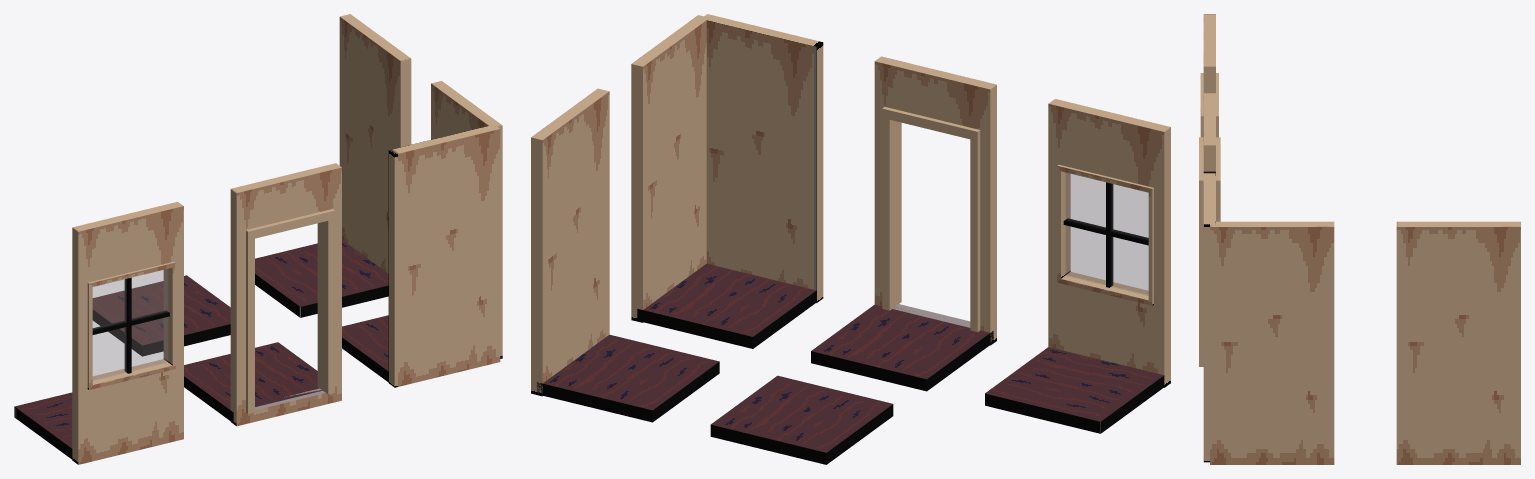
The model's file is MotelTileset.glb.
3 renders of one model, left to right at view 1: azimuth 30°, elevation 25°; view 2: azimuth 150°, elevation 25°; view 3: azimuth 270°, elevation 25°, orthographic. The views are drawn at different scales.
Parts seen in each view (by area): view 1: Cube.008, Cube.014, Cube.006, Cube.002, Cube.003; view 2: Cube.008, Cube.014, Cube.002, Cube.006, Cube.003; view 3: Cube.008, Cube.002, Cube.006, Cube.014.
Part boxes in pixels (x1,y1,x2,y2): Cube.008: (342, 81, 502, 387); Cube.014: (14, 201, 183, 464); Cube.006: (184, 163, 341, 426); Cube.002: (255, 14, 411, 317); Cube.003: (92, 275, 230, 356); Cube.008: (631, 14, 823, 348); Cube.014: (985, 99, 1170, 433); Cube.002: (531, 88, 719, 422); Cube.006: (811, 56, 996, 391); Cube.003: (710, 375, 893, 464); Cube.008: (1203, 171, 1334, 464); Cube.002: (1396, 221, 1520, 464); Cube.006: (1199, 93, 1220, 366); Cube.014: (1200, 14, 1218, 137).
Size of the model in its own units: 8.1 by 4.22 by 5.17.
3 materials, 2 textured.
